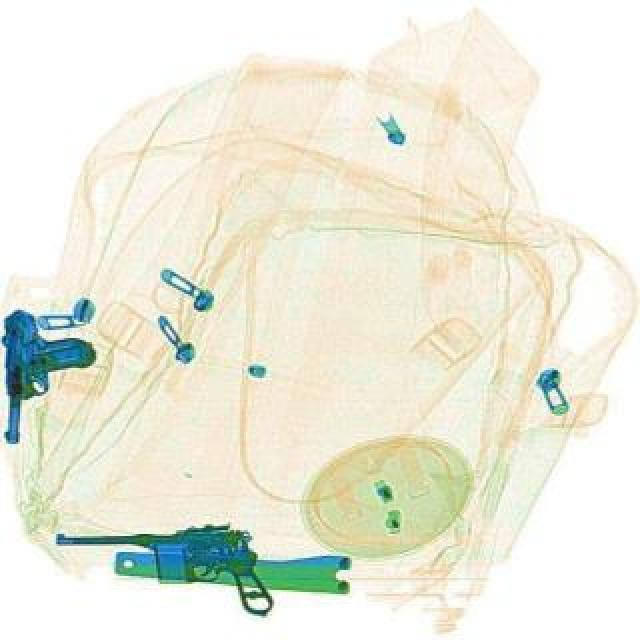gun: (52, 520, 272, 620), (0, 304, 100, 444)
